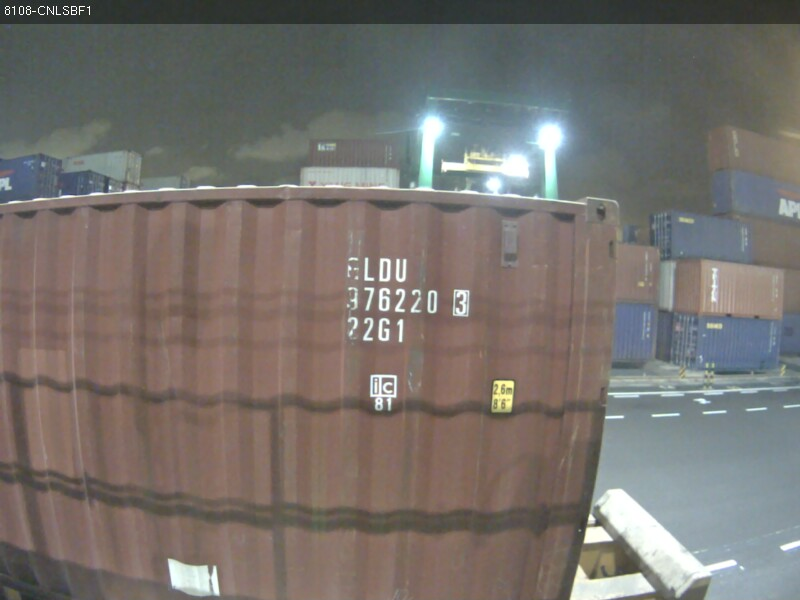container_no_door: (59, 179, 629, 599)
